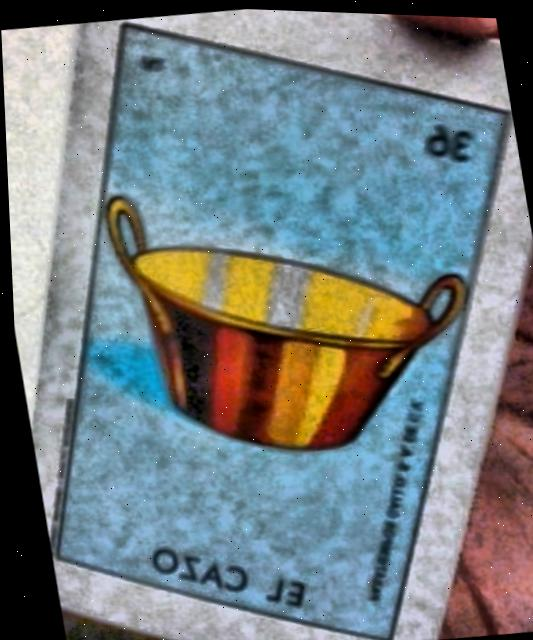El Cazo: (51, 23, 501, 640)
